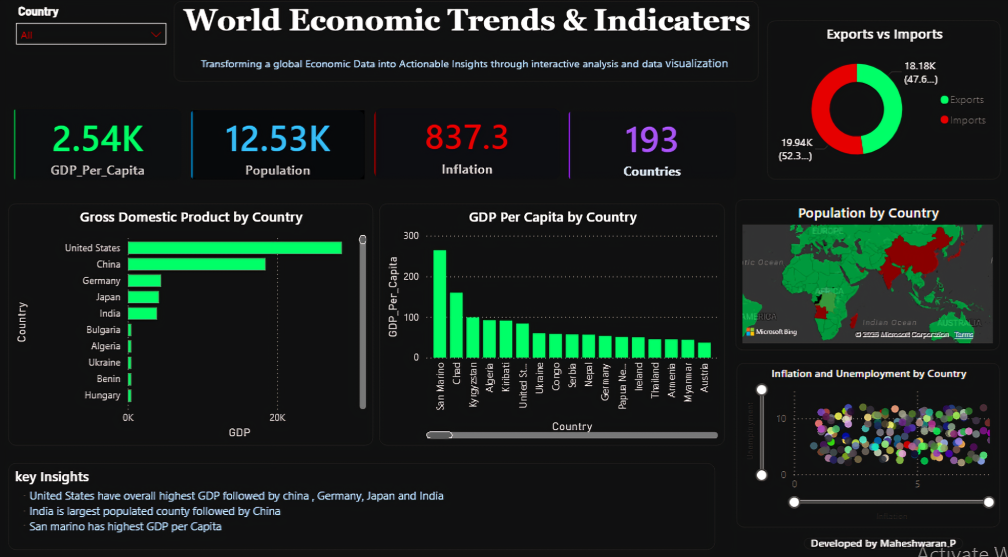

Layout of this report page (visuals, bound fields, positions):
{"tool":"powerbi","page":{"name":"Page 1","canvas":[1280,720],"ordinal":0},"visuals":[{"type":"barChart","title":"Gross Domestic  Product by Country","fields":{"Category":["country_economics_cleaned.Country"],"Y":["Sum(country_economics_cleaned.GDP)"]},"box":[15.6,289.1,460.6,306.1],"z":0},{"type":"textbox","title":"World Economic Trends & Indicaters","box":[225,14.5,747.4,92.1],"z":1000},{"type":"slicer","fields":{"Values":["country_economics_cleaned.Country"]},"box":[15.6,14.2,209.8,92.1],"z":2000},{"type":"donutChart","title":"Exports vs Imports","fields":{"Y":["Sum(country_economics_cleaned.Exports)","Sum(country_economics_cleaned.Imports)"]},"box":[972.4,38.2,294.7,201.3],"z":3000},{"type":"map","title":"Population by Country","fields":{"Category":["country_economics_cleaned.Country"],"Size":["Sum(country_economics_cleaned.Population)"]},"box":[932.9,264.5,334.2,190.8],"z":4000},{"type":"scatterChart","fields":{"Category":["country_economics_cleaned.Country"],"X":["Sum(country_economics_cleaned.Inflation)"],"Y":["Sum(country_economics_cleaned.Unemployment)"]},"box":[934.2,471.1,332.9,207.9],"z":5000},{"type":"cardVisual","fields":{"Data":["Sum(country_economics_cleaned.GDP_Per_Capita)"]},"box":[13.5,139,244.7,128.9],"z":6000,"group":"g1"},{"type":"clusteredColumnChart","title":"GDP Per Capita by Country","fields":{"Category":["country_economics_cleaned.Country"],"Y":["Sum(country_economics_cleaned.GDP_Per_Capita)"]},"box":[473.7,289.5,435.5,305.3],"z":6000},{"type":"cardVisual","fields":{"Data":["Sum(country_economics_cleaned.Population)"]},"box":[253,139,234.2,128.9],"z":7000,"group":"g1"},{"type":"textbox","title":"Developed by Maheshwaran P","box":[995,678.9,272.1,28.3],"z":7000},{"type":"cardVisual","fields":{"Data":["Sum(country_economics_cleaned.Inflation)"]},"box":[480.6,139,232.9,128.9],"z":8000,"group":"g1"},{"type":"textbox","title":"key Insights","box":[18.4,610.9,925.5,96.4],"z":8000},{"type":"group","id":"g1","title":"Group 1","box":[13.5,138.9,919.1,129.1],"z":9000},{"type":"cardVisual","fields":{"Data":["Count(country_economics_cleaned.Country)"]},"box":[712.9,138.9,219.7,129],"z":9000,"group":"g1"}]}

Visuals, with their boxes in screenshot pixels (x1, y1, x2, y2), scaled from the page's 1280x720 canvas onto the 1008x557 screenshot:
"Gross Domestic  Product by Country" barChart: BBox(12, 224, 375, 460)
"World Economic Trends & Indicaters" textbox: BBox(177, 11, 766, 82)
slicer - country_economics_cleaned.Country: BBox(12, 11, 178, 82)
"Exports vs Imports" donutChart: BBox(766, 30, 998, 185)
"Population by Country" map: BBox(735, 205, 998, 352)
scatterChart - country_economics_cleaned.Country x Sum(country_economics_cleaned.Inflation): BBox(736, 364, 998, 525)
cardVisual - Sum(country_economics_cleaned.GDP_Per_Capita): BBox(11, 108, 203, 207)
"GDP Per Capita by Country" clusteredColumnChart: BBox(373, 224, 716, 460)
cardVisual - Sum(country_economics_cleaned.Population): BBox(199, 108, 384, 207)
"Developed by Maheshwaran P" textbox: BBox(784, 525, 998, 547)
cardVisual - Sum(country_economics_cleaned.Inflation): BBox(378, 108, 562, 207)
"key Insights" textbox: BBox(14, 473, 743, 547)
"Group 1" group: BBox(11, 107, 734, 207)
cardVisual - Count(country_economics_cleaned.Country): BBox(561, 107, 734, 207)
